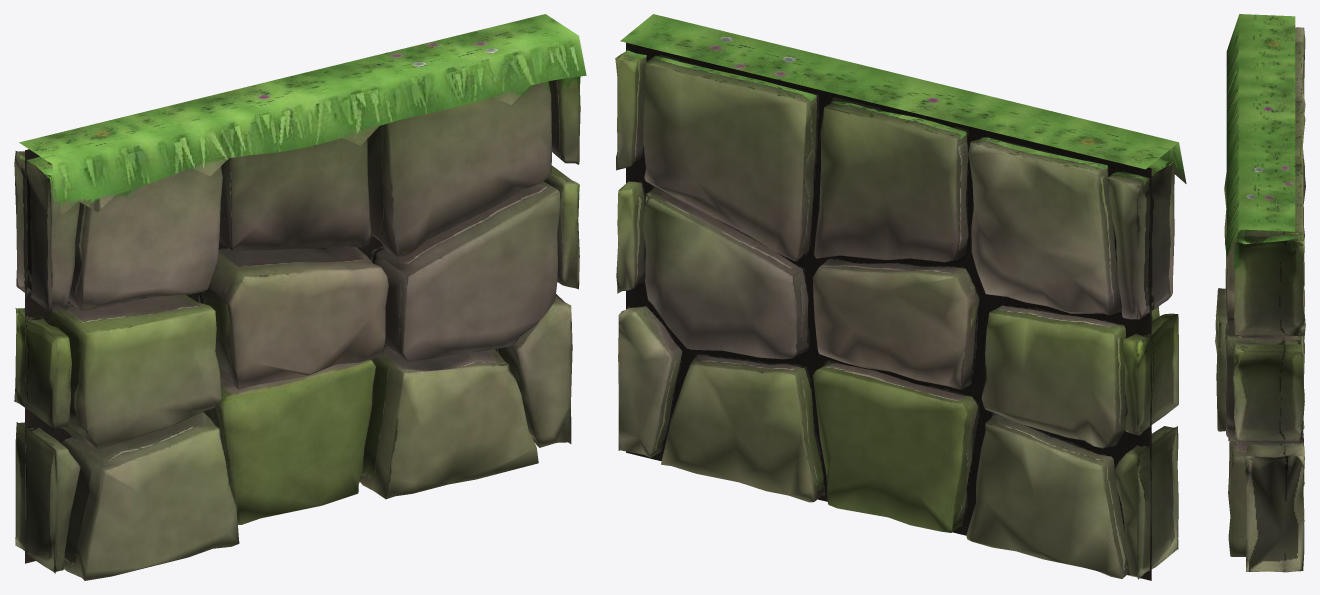
Rendered from wall2_a.glb.
3 renders of one model, left to right at view 1: azimuth 30°, elevation 25°; view 2: azimuth 150°, elevation 25°; view 3: azimuth 270°, elevation 25°, orthographic. The views are drawn at different scales.
Visible parts, largest first — view 1: wall2_a; view 2: wall2_a; view 3: wall2_a.
Part boxes in pixels (x1,y1,x2,y2): wall2_a: [14, 14, 586, 580]; wall2_a: [615, 14, 1186, 580]; wall2_a: [1215, 14, 1305, 572].
Bounding box in the file's own units: 2 × 1.52 × 0.3568.
Materials: 1 (1 with a texture image).
